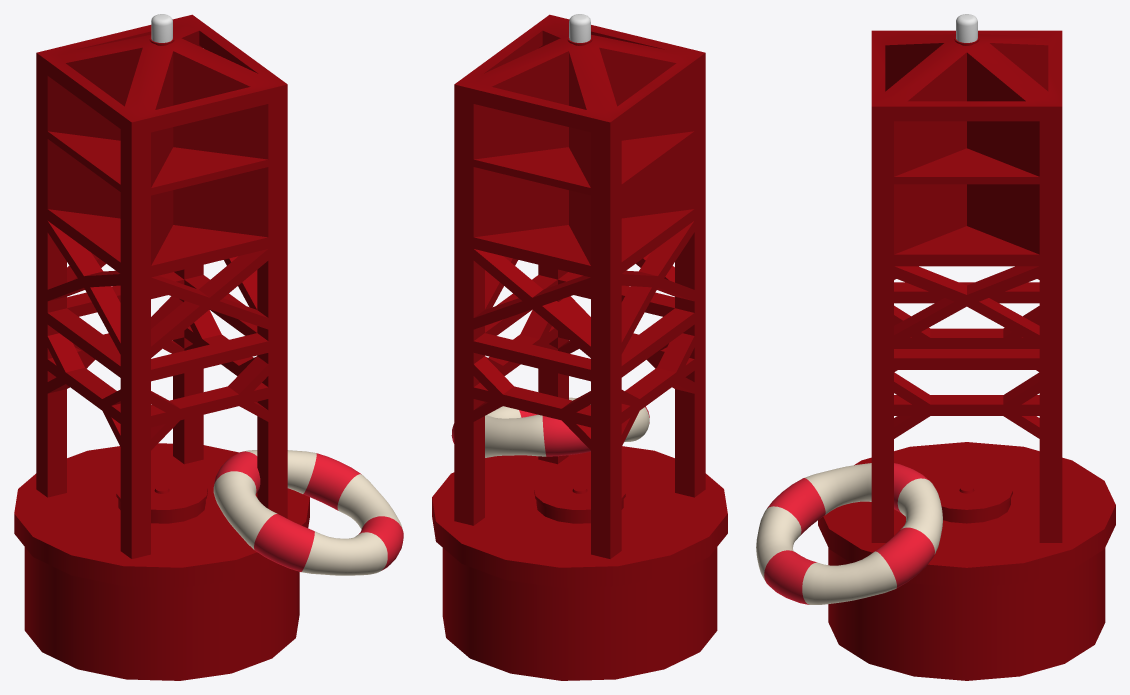
The model's file is buoy.fbx.
3 views of the same model, side by side, from view 1: azimuth 30°, elevation 25°; view 2: azimuth 150°, elevation 25°; view 3: azimuth 270°, elevation 25° (orthographic).
Parts seen in each view (by area): view 1: Cube, Cylinder, Torus, Cylinder.001; view 2: Cube, Cylinder, Torus, Cylinder.001; view 3: Cube, Cylinder, Torus, Cylinder.001.
Part boxes in pixels (x1=…): Cube: x1=36, y1=14, x2=287, y2=558; Cylinder: x1=14, y1=443, x2=309, y2=680; Torus: x1=213, y1=450, x2=403, y2=575; Cylinder.001: x1=149, y1=14, x2=174, y2=45; Cube: x1=454, y1=14, x2=705, y2=558; Cylinder: x1=432, y1=446, x2=727, y2=680; Torus: x1=451, y1=397, x2=649, y2=457; Cylinder.001: x1=567, y1=14, x2=592, y2=45; Cube: x1=871, y1=30, x2=1062, y2=542; Cylinder: x1=818, y1=442, x2=1115, y2=680; Torus: x1=756, y1=463, x2=942, y2=604; Cylinder.001: x1=954, y1=14, x2=979, y2=45.
Bounding box in the file's own units: 248 × 482 × 260.
